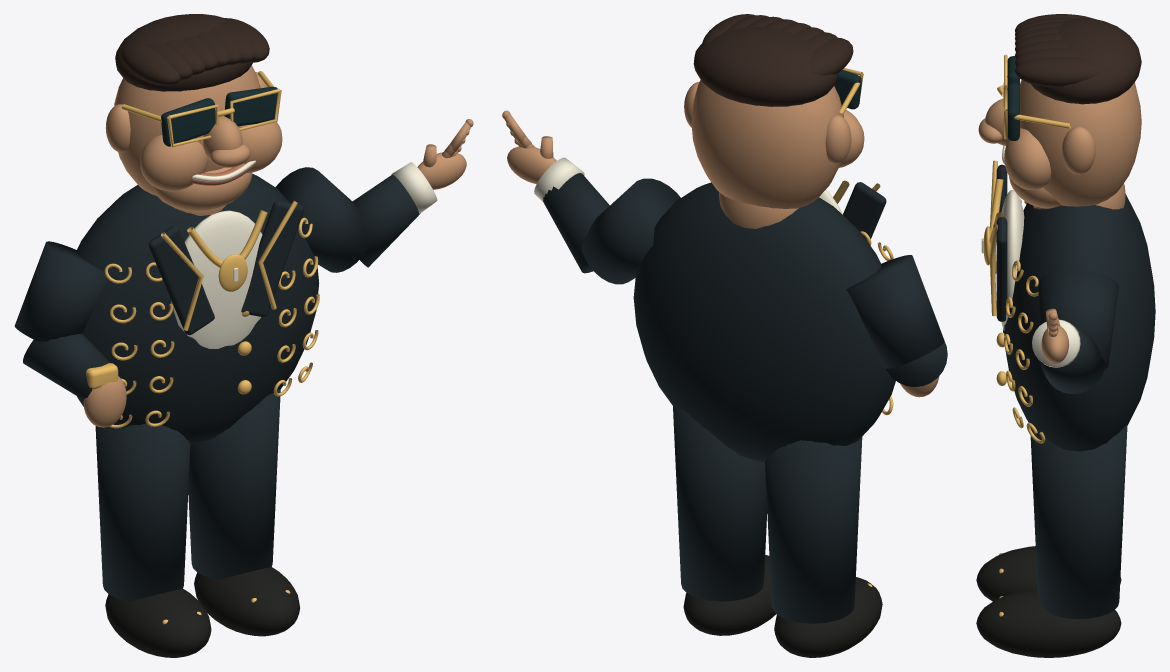
File: big-man.glb
The picture shows the model from 3 angles, left to right: view 1: azimuth 30°, elevation 25°; view 2: azimuth 150°, elevation 25°; view 3: azimuth 270°, elevation 25°; orthographic projection. The views are drawn at different scales.
Visible parts, largest first — view 1: Jacket body, Tailored trouser, Tailored trouser.001, Resting upper sleeve, Shirt front, Upper sleeve, Loafer, Loafer.001, Head, Hair cap, Fore sleeve, Resting fore sleeve (+18 smaller); view 2: Jacket body, Tailored trouser, Tailored trouser.001, Head, Hair cap, Resting upper sleeve, Upper sleeve, Loafer, Loafer.001, Fore sleeve, Silk lapel, Resting fore sleeve (+7 smaller); view 3: Jacket body, Tailored trouser.001, Head, Loafer.001, Hair cap, Upper sleeve, Loafer, Fore sleeve, Cheek.001, Swept hair lock.007, Shirt front, Ear.001 (+18 smaller).
Part boxes in pixels (bbox=[...]): Jacket body: bbox=[76, 174, 319, 444]; Tailored trouser: bbox=[95, 423, 190, 601]; Tailored trouser.001: bbox=[188, 389, 280, 579]; Resting upper sleeve: bbox=[14, 241, 110, 342]; Shirt front: bbox=[171, 210, 262, 348]; Upper sleeve: bbox=[275, 167, 368, 272]; Loafer: bbox=[105, 589, 211, 657]; Loafer.001: bbox=[194, 567, 299, 636]; Head: bbox=[114, 65, 260, 195]; Hair cap: bbox=[115, 14, 252, 91]; Fore sleeve: bbox=[353, 174, 420, 267]; Resting fore sleeve: bbox=[23, 333, 110, 399]; Jacket body: bbox=[633, 182, 895, 462]; Tailored trouser: bbox=[765, 437, 862, 623]; Tailored trouser.001: bbox=[673, 406, 767, 601]; Head: bbox=[691, 80, 843, 208]; Hair cap: bbox=[693, 27, 838, 106]; Resting upper sleeve: bbox=[846, 255, 944, 368]; Upper sleeve: bbox=[581, 178, 680, 284]; Loafer: bbox=[774, 577, 882, 657]; Loafer.001: bbox=[683, 555, 775, 635]; Fore sleeve: bbox=[543, 173, 609, 273]; Silk lapel: bbox=[843, 182, 886, 241]; Resting fore sleeve: bbox=[886, 342, 947, 386]; Jacket body: bbox=[1003, 194, 1155, 451]; Tailored trouser.001: bbox=[1030, 425, 1127, 619]; Head: bbox=[1019, 80, 1141, 206]; Loafer.001: bbox=[976, 589, 1121, 657]; Hair cap: bbox=[1031, 18, 1141, 104]; Upper sleeve: bbox=[1038, 270, 1118, 370]; Loafer: bbox=[976, 546, 1121, 601]; Fore sleeve: bbox=[1039, 327, 1105, 393]; Cheek.001: bbox=[1004, 128, 1051, 189]; Swept hair lock.007: bbox=[1015, 57, 1101, 87]; Shirt front: bbox=[1001, 190, 1024, 330]; Ear.001: bbox=[1061, 126, 1095, 174].
Size of the model in its own units: 2.39 by 3.1 by 0.84.
